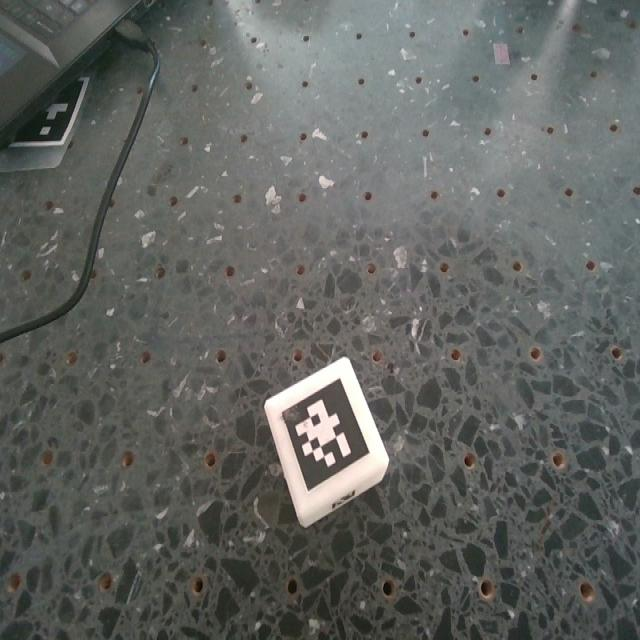Cube: (263, 359, 390, 529)
